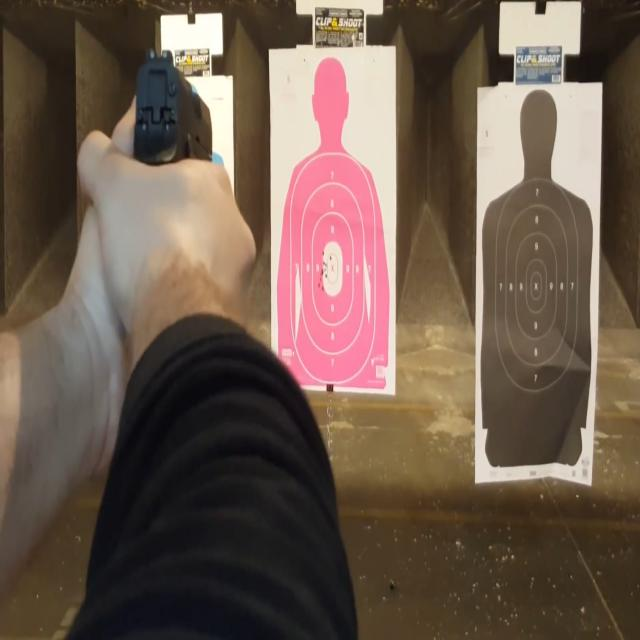handgun: (115, 34, 228, 225)
